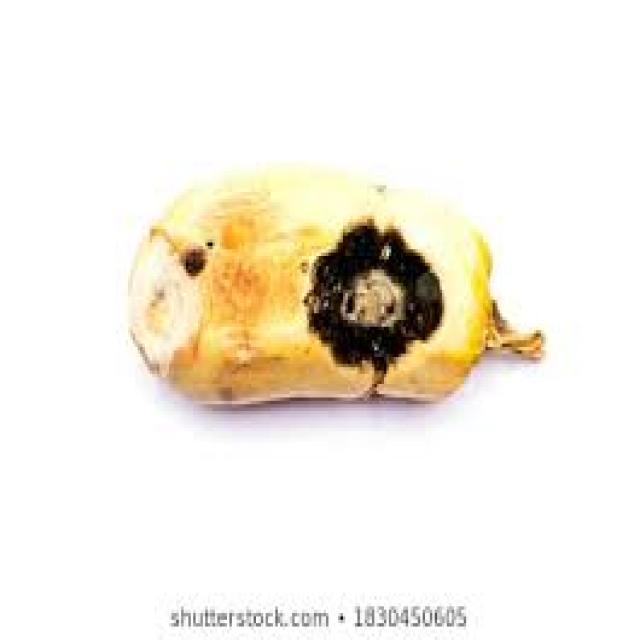organic waste: (128, 172, 541, 397)
